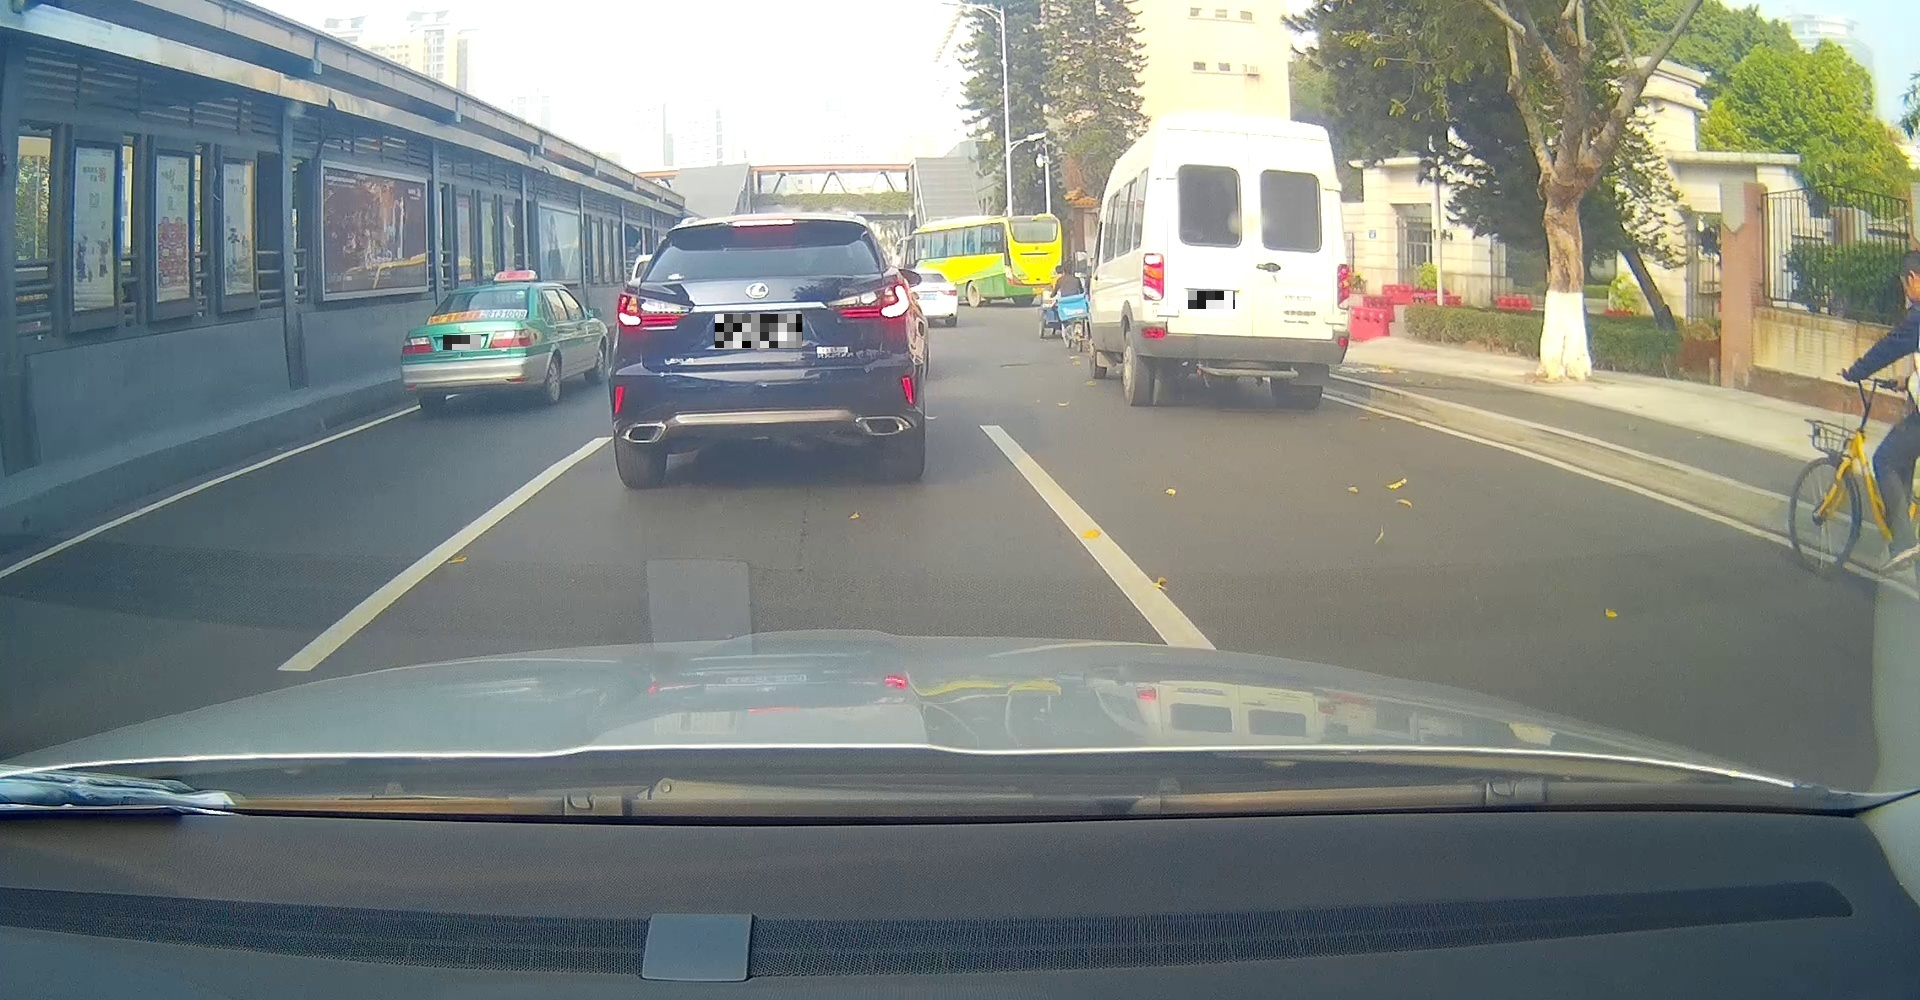L_light: (616, 292, 695, 332), (1143, 253, 1164, 299), (401, 335, 433, 354)
R_light: (828, 275, 912, 320), (488, 327, 535, 349), (1336, 263, 1351, 311)
T_light: (733, 220, 792, 227), (1241, 126, 1262, 135), (480, 292, 497, 296)
day-brake: (608, 212, 924, 489)
day-no: (1139, 114, 1351, 409), (400, 280, 537, 416)
plate_1: (443, 335, 481, 350)
plate_2: (715, 313, 803, 348)
plate_3: (1189, 291, 1236, 308)
